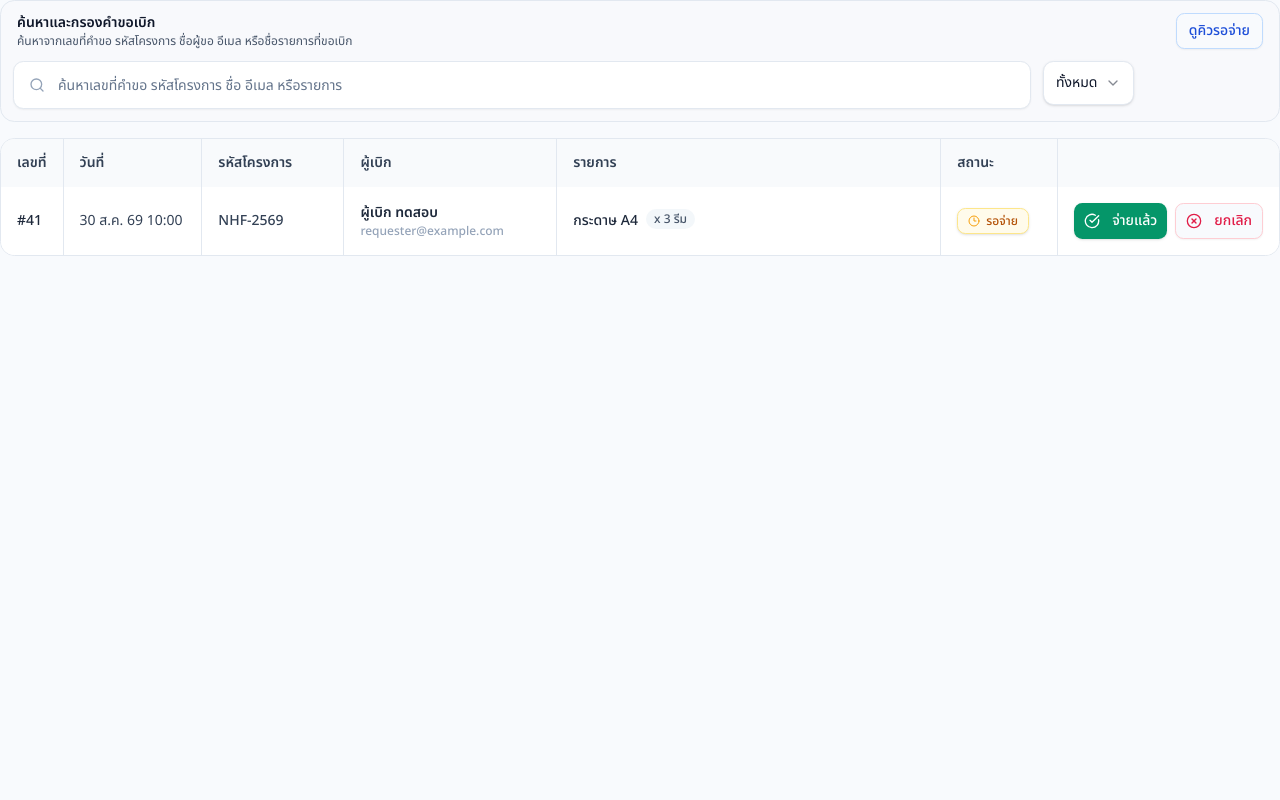
Test: StockAdminRequests issue confirmation › confirms exactly once, refreshes requests and inventory, then closes
This screenshot has width=1280, height=800.
What coordinates should you click on to do the following:
click the button "จ่ายแล้ว"
I would click on:
 (1121, 221)
Its box is [1074,203,1167,239].
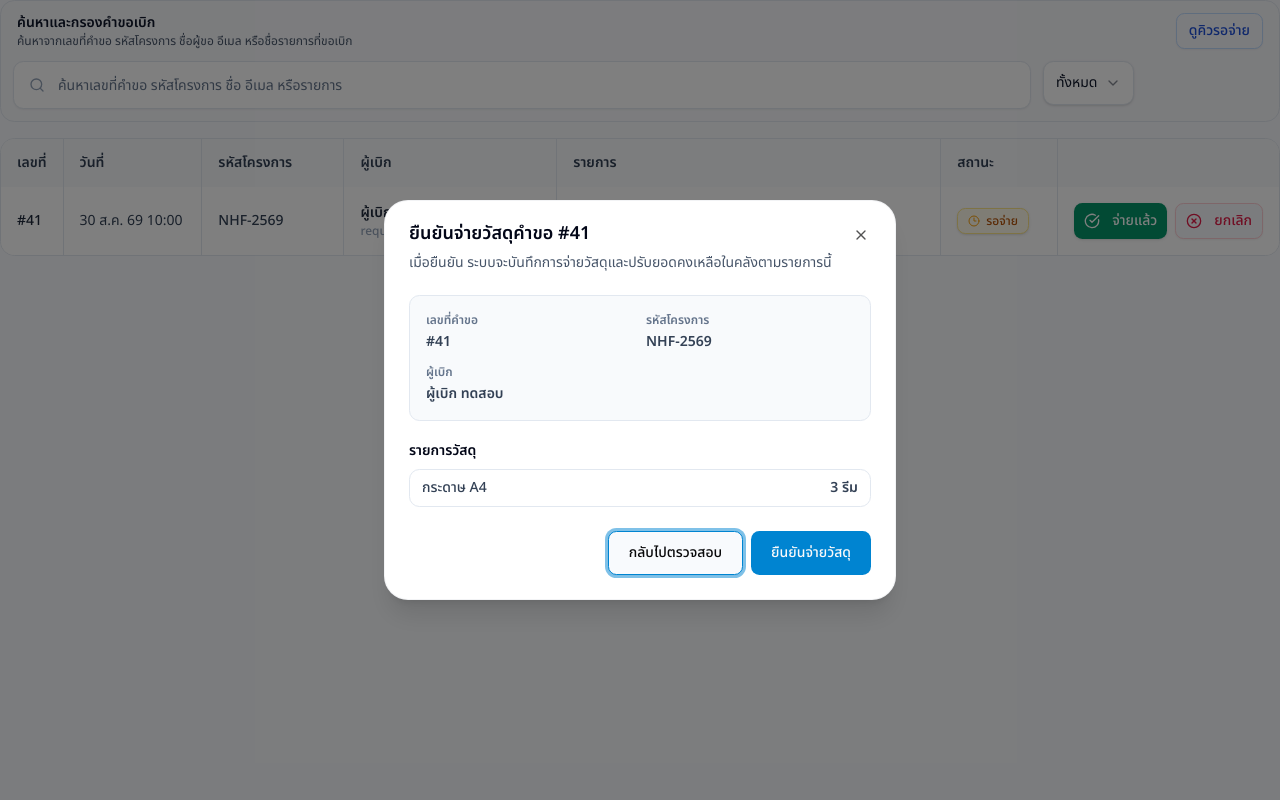
Expected: the dialog is shown, [384,200,896,600]
What coordinates should you click on to do the following:
click the button "ยืนยันจ่ายวัสดุ"
I would click on:
 (811, 553)
Its box is [751,531,871,575].
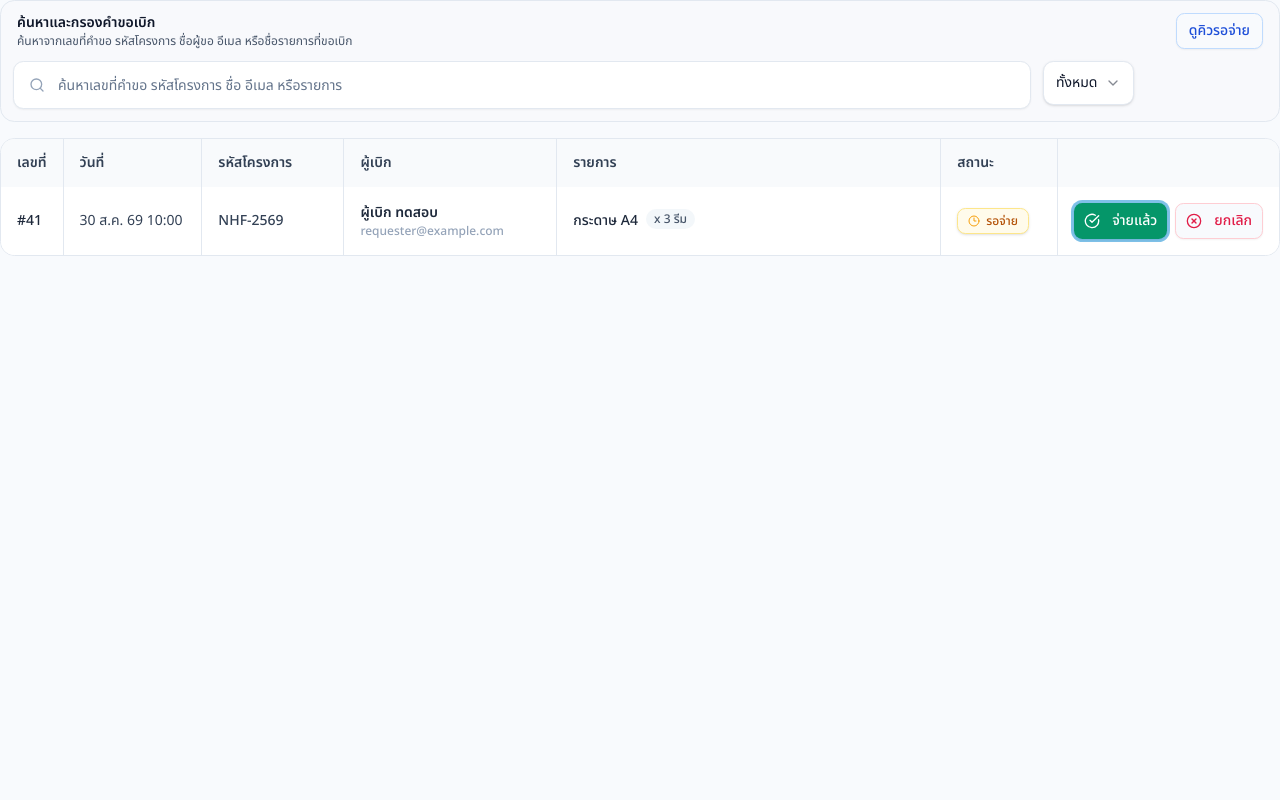
Expected: the dialog is gone
